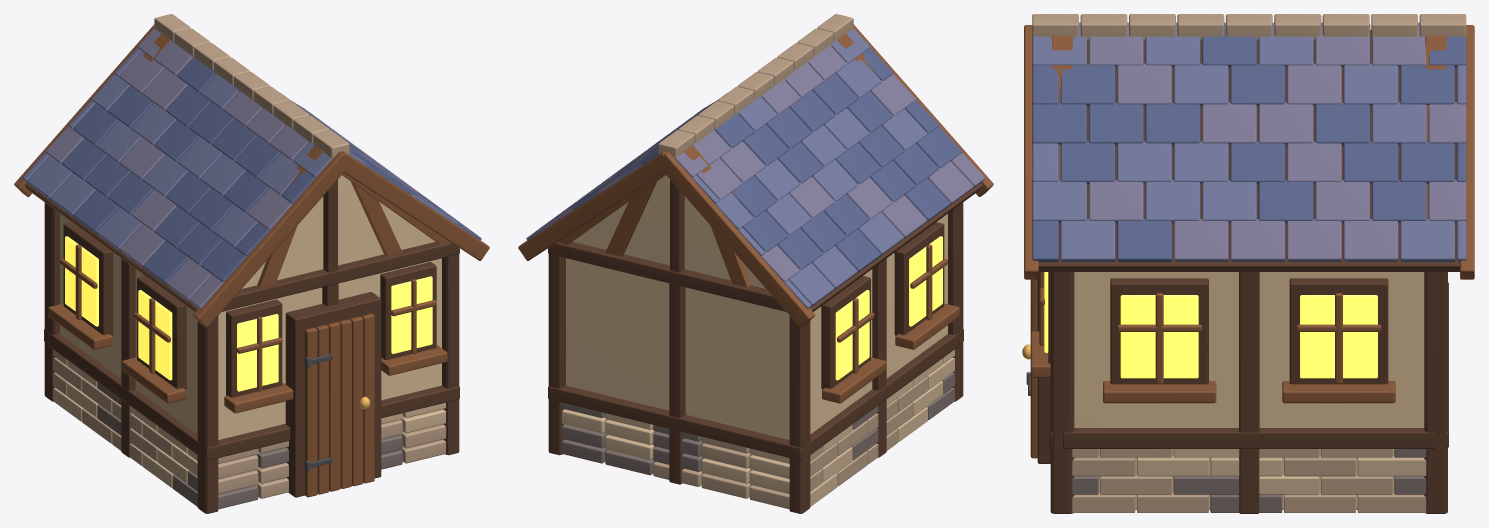
File: ashwick-small-cottage.meshopt.glb
3 renders of one model, left to right at view 1: azimuth 30°, elevation 25°; view 2: azimuth 150°, elevation 25°; view 3: azimuth 270°, elevation 25°, orthographic. The views are drawn at different scales.
Parts seen in each view (by area): view 1: Overlapping slate courses.005, Overlapping slate courses.003, Overlapping slate courses.004, Door planks.001, Limewashed walls.001, Leaded windows.003, Leaded windows.004, Carved verge.001, Leaded windows.005, Tie beams.001, Entrance casing.001, Side posts.001 (+14 smaller); view 2: Limewashed walls.001, Overlapping slate courses.005, Overlapping slate courses.003, Overlapping slate courses.004, Tie beams.001, Frame posts.001, Carved verge.001, Side posts.001, Gable infill.001, Ridge caps.001, Foundation ashlar.005, Leaded windows.003 (+12 smaller); view 3: Overlapping slate courses.005, Overlapping slate courses.004, Overlapping slate courses.003, Limewashed walls.001, Side posts.001, Side foundation.005, Leaded windows.004, Ridge caps.001, Leaded windows.005, Leaded windows.003, Side rails.001, Roof decking.001 (+7 smaller).
Part boxes in pixels (x1,y1,x2,y2): Overlapping slate courses.005: (61,57,481,284); Overlapping slate courses.003: (22,48,468,250); Overlapping slate courses.004: (45,28,434,308); Door planks.001: (304,313,374,497); Limewashed walls.001: (60,214,441,485); Leaded windows.003: (63,222,436,397); Leaded windows.004: (65,236,432,391); Carved verge.001: (14,24,489,327); Leaded windows.005: (48,244,447,413); Tie beams.001: (44,241,459,460); Entrance casing.001: (285,292,381,497); Side posts.001: (44,202,446,513); Limewashed walls.001: (566,214,947,485); Overlapping slate courses.005: (566,48,962,272); Overlapping slate courses.003: (526,28,927,308); Overlapping slate courses.004: (549,45,985,281); Tie beams.001: (548,241,963,460); Frame posts.001: (548,208,954,513); Carved verge.001: (518,24,993,327); Side posts.001: (561,202,963,513); Gable infill.001: (572,175,765,288); Ridge caps.001: (658,14,853,158); Foundation ashlar.005: (562,409,789,494); Leaded windows.003: (821,222,944,389); Overlapping slate courses.005: (1032,22,1466,262); Overlapping slate courses.004: (1089,22,1466,262); Overlapping slate courses.003: (1032,22,1466,262); Limewashed walls.001: (1074,272,1424,509); Side posts.001: (1052,272,1445,513); Side foundation.005: (1072,449,1426,512); Leaded windows.004: (1044,272,1377,378); Ridge caps.001: (1032,14,1466,40); Leaded windows.005: (1030,272,1395,403); Leaded windows.003: (1048,272,1388,384); Side rails.001: (1063,428,1435,448); Roof decking.001: (1038,30,1459,271).
Size of the model in its own units: 3.64 by 4.1 by 3.99.
